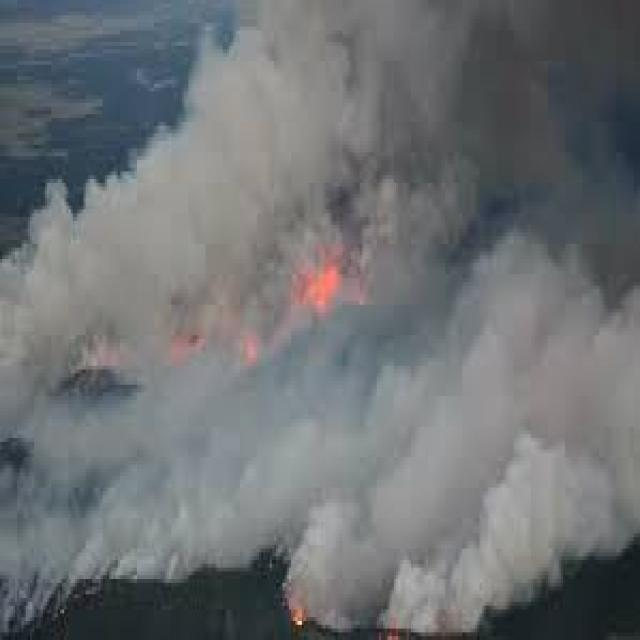Fire: (279, 224, 362, 320)
Smoke: (364, 270, 638, 640), (0, 145, 186, 613), (362, 0, 638, 270), (191, 324, 363, 636), (180, 3, 364, 221), (188, 222, 278, 318)
